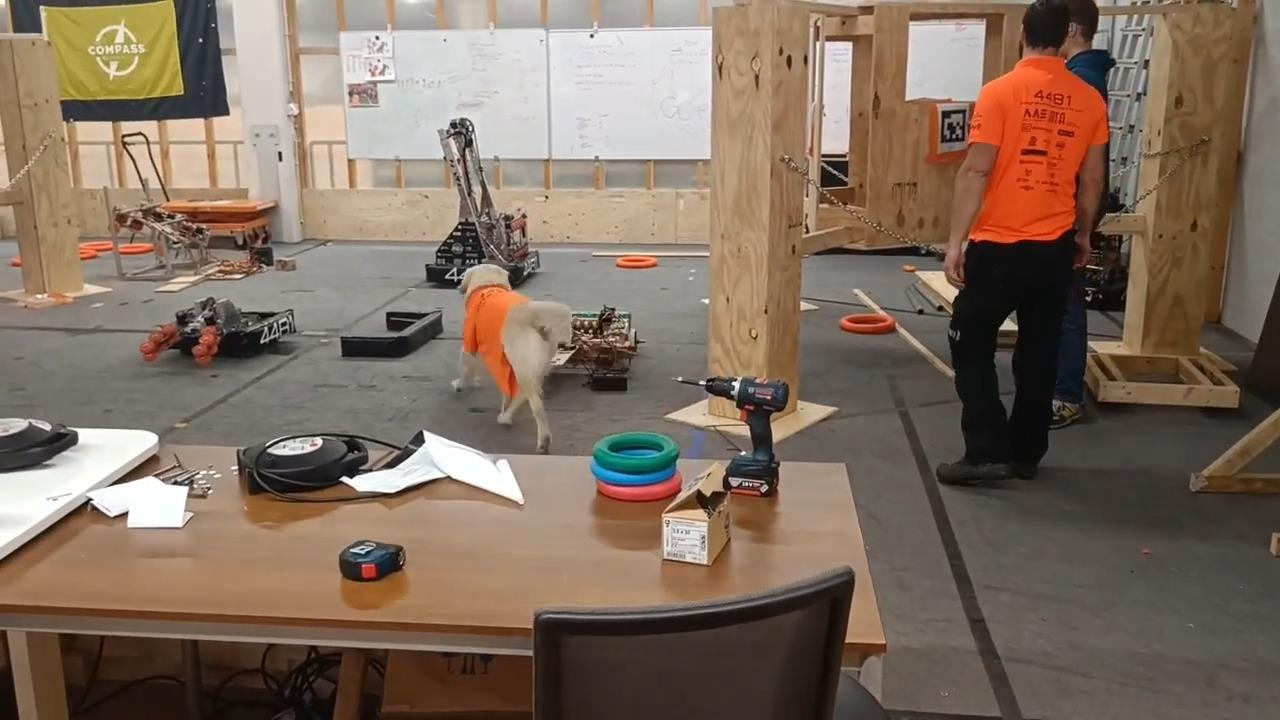robot: (421, 115, 541, 285), (140, 295, 297, 365)
